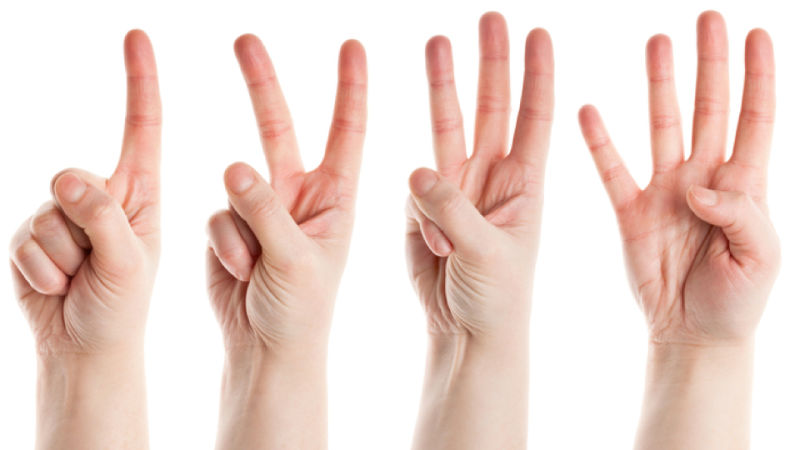finger: (229, 32, 307, 175), (116, 23, 176, 177), (510, 16, 570, 164), (576, 100, 650, 214), (321, 28, 370, 178), (638, 25, 686, 168), (421, 38, 474, 162), (736, 17, 775, 172), (695, 4, 732, 165), (3, 217, 70, 305), (476, 5, 511, 160), (28, 194, 84, 272), (203, 207, 256, 277), (402, 197, 459, 258)
